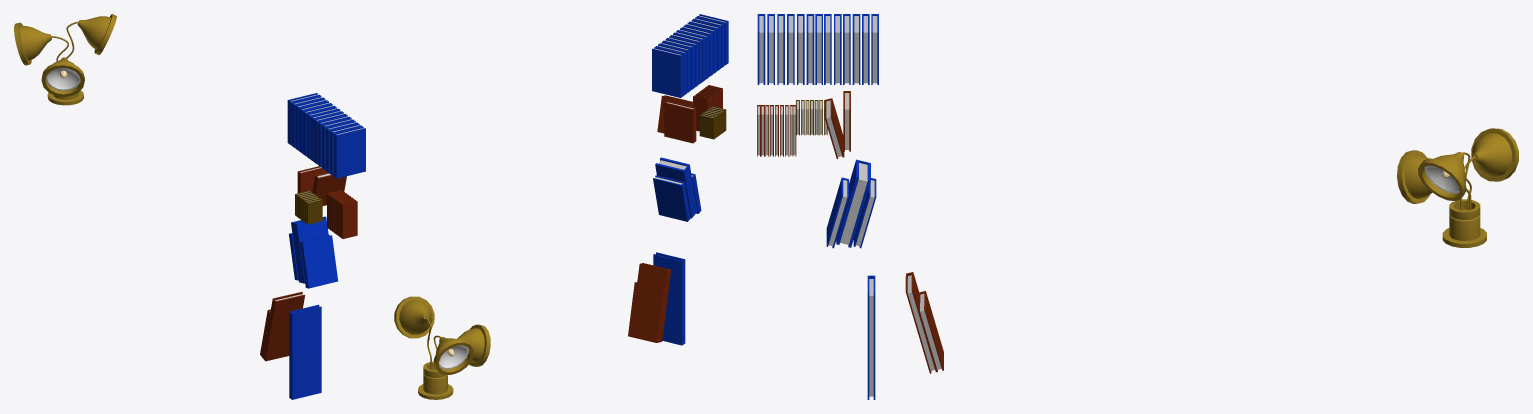
The model's file is Lampara.obj.
The picture shows the model from 3 angles, left to right: view 1: azimuth 30°, elevation 25°; view 2: azimuth 150°, elevation 25°; view 3: azimuth 270°, elevation 25°; orthographic projection. The views are drawn at different scales.
Parts seen in each view (by area): view 1: Libro1:Mesh, object 3; view 2: Libro1:Mesh, object 3; view 3: Libro1:Mesh, object 3.
Boxes of the visible parts, box(x1,y1,x2,y2) form: Libro1:Mesh: box(260, 93, 365, 399); object 3: box(14, 14, 116, 105); Libro1:Mesh: box(628, 14, 728, 345); object 3: box(394, 296, 490, 399); Libro1:Mesh: box(757, 14, 943, 399); object 3: box(1397, 128, 1518, 247).
Bounding box in the file's own units: 0.8136 × 2.6 × 4.88.
35 materials, 1 textured.
